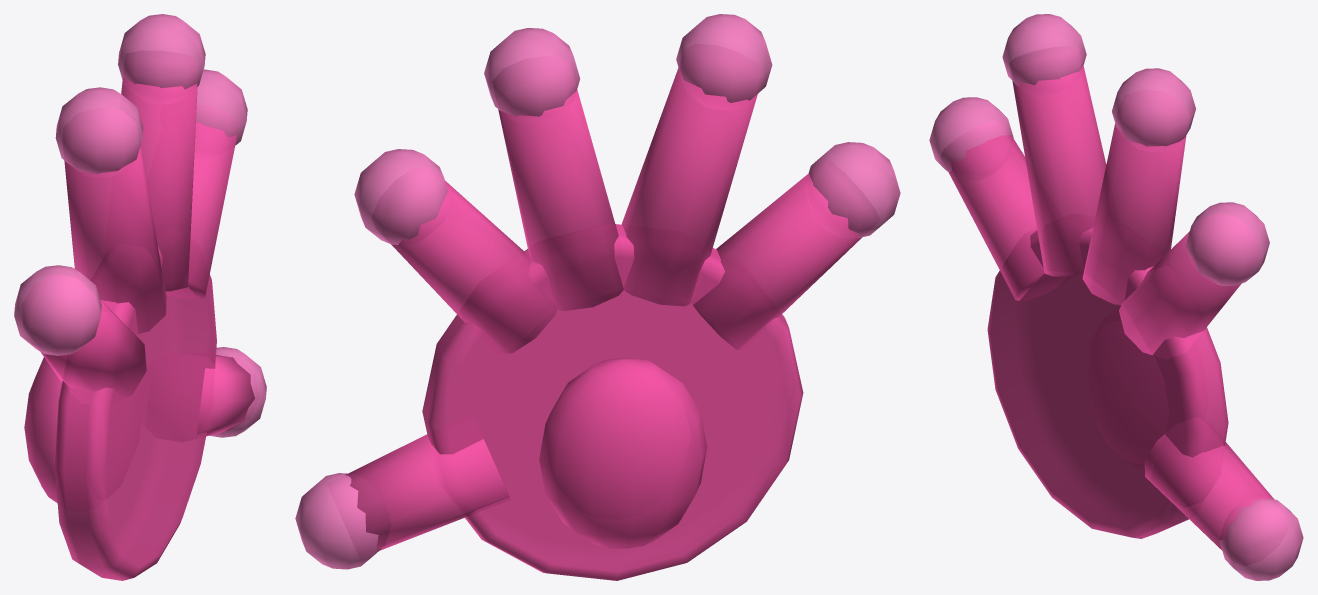
Rendered from x_grap_sticky.glb.
3 renders of one model, left to right at view 1: azimuth 30°, elevation 25°; view 2: azimuth 150°, elevation 25°; view 3: azimuth 270°, elevation 25°, orthographic. The views are drawn at different scales.
Visible parts, largest first — view 1: hook_hand; view 2: hook_hand; view 3: hook_hand.
Part boxes in pixels (x1,y1,x2,y2): hook_hand: [14, 14, 266, 580]; hook_hand: [295, 14, 900, 580]; hook_hand: [929, 14, 1303, 580].
Bounding box in the file's own units: 0.3326 × 0.4119 × 0.292.
